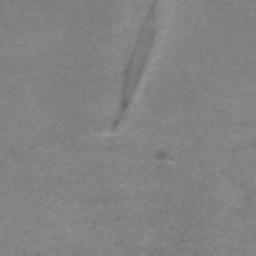Finishing roll printing: (108, 1, 159, 131)
